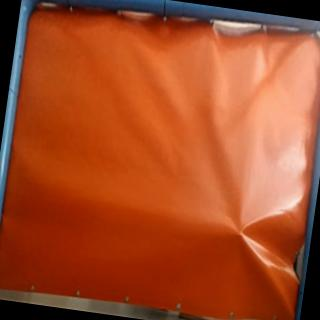Hit-hRxx: (232, 225, 248, 241)
